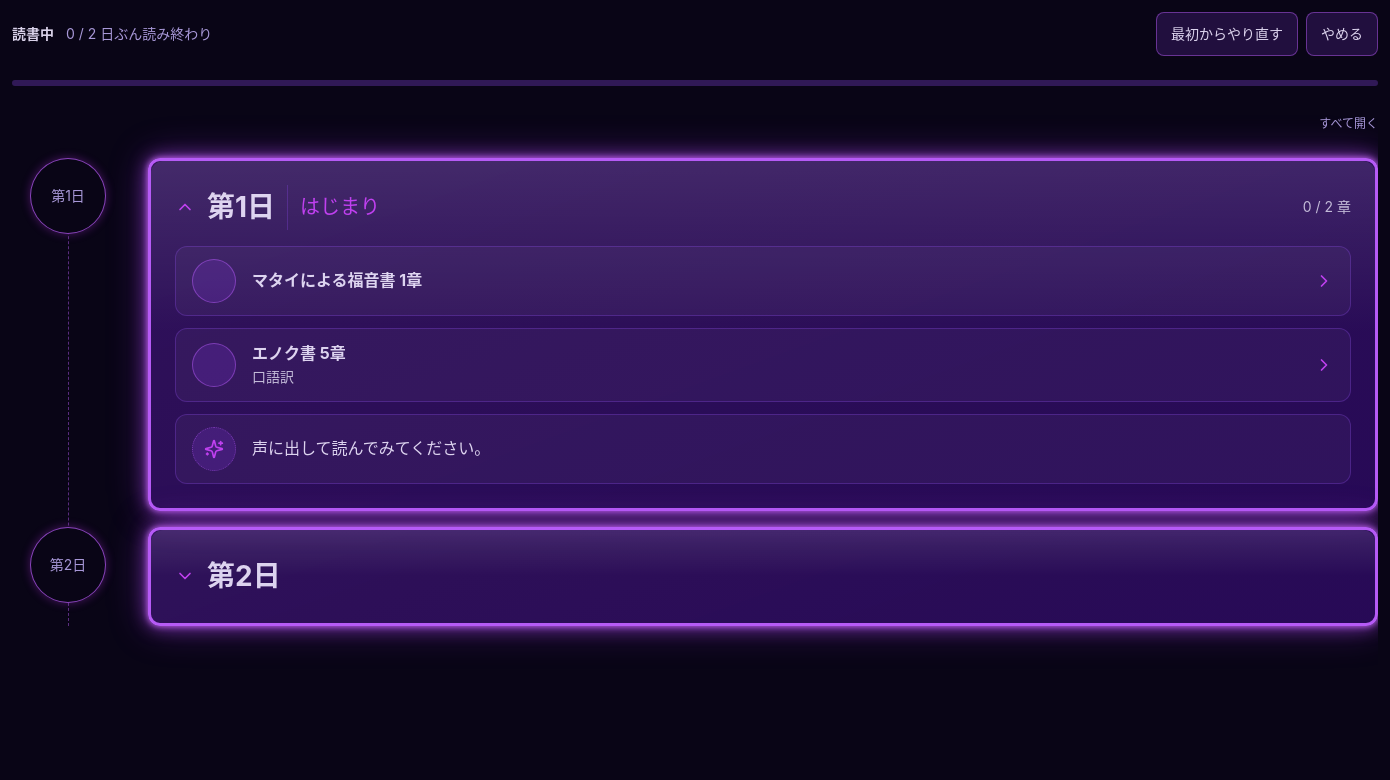
Test: プランを読み進めるところ › その日の章に全部印が付くと、日の見出しの数が満ちる
Check: the text "0 / 2 章" is shown, box [1303,196,1351,219]
Click the checkbox named "マタイによる福音書 1章を読み終えたと記録": point(214, 281) [192,259,236,303]
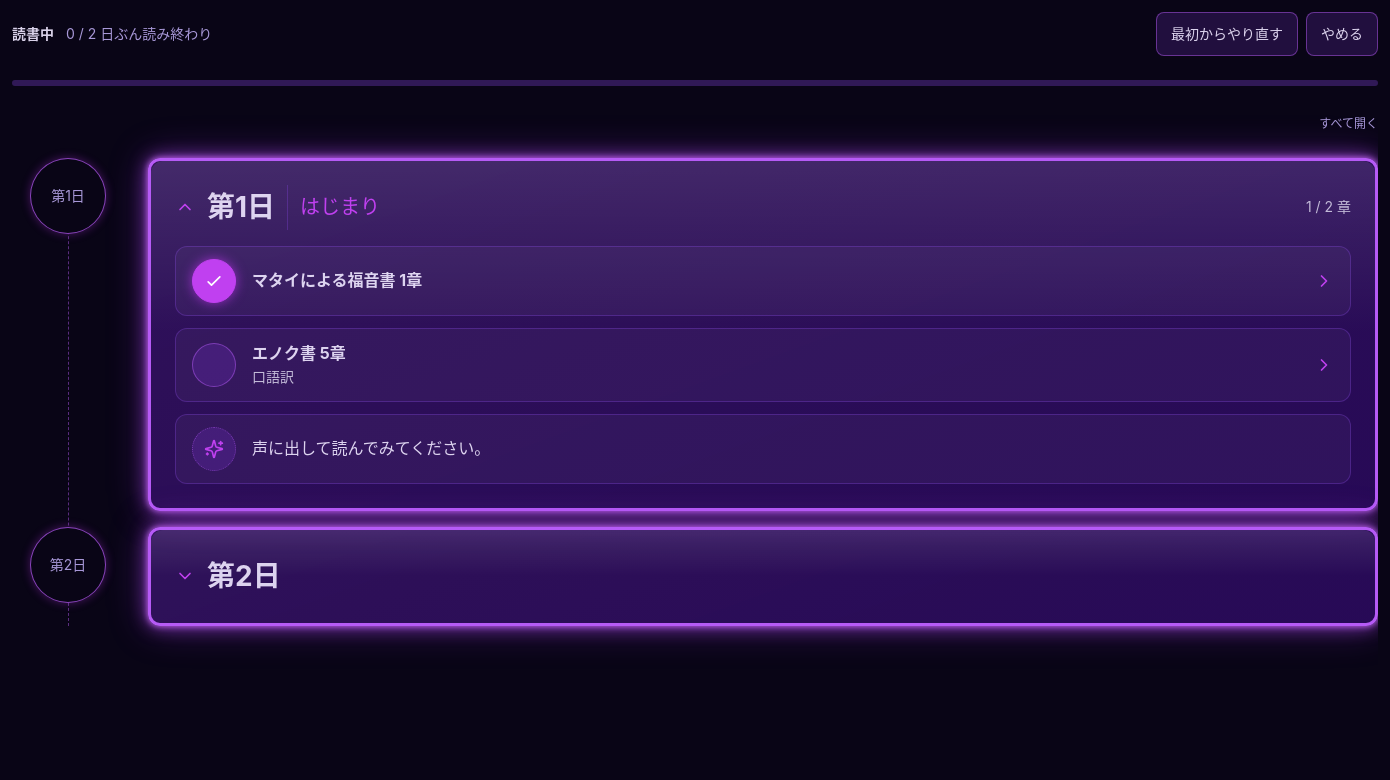
Click the checkbox named "エノク書 5章を読み終えたと記録": point(214, 365) [192,343,236,387]
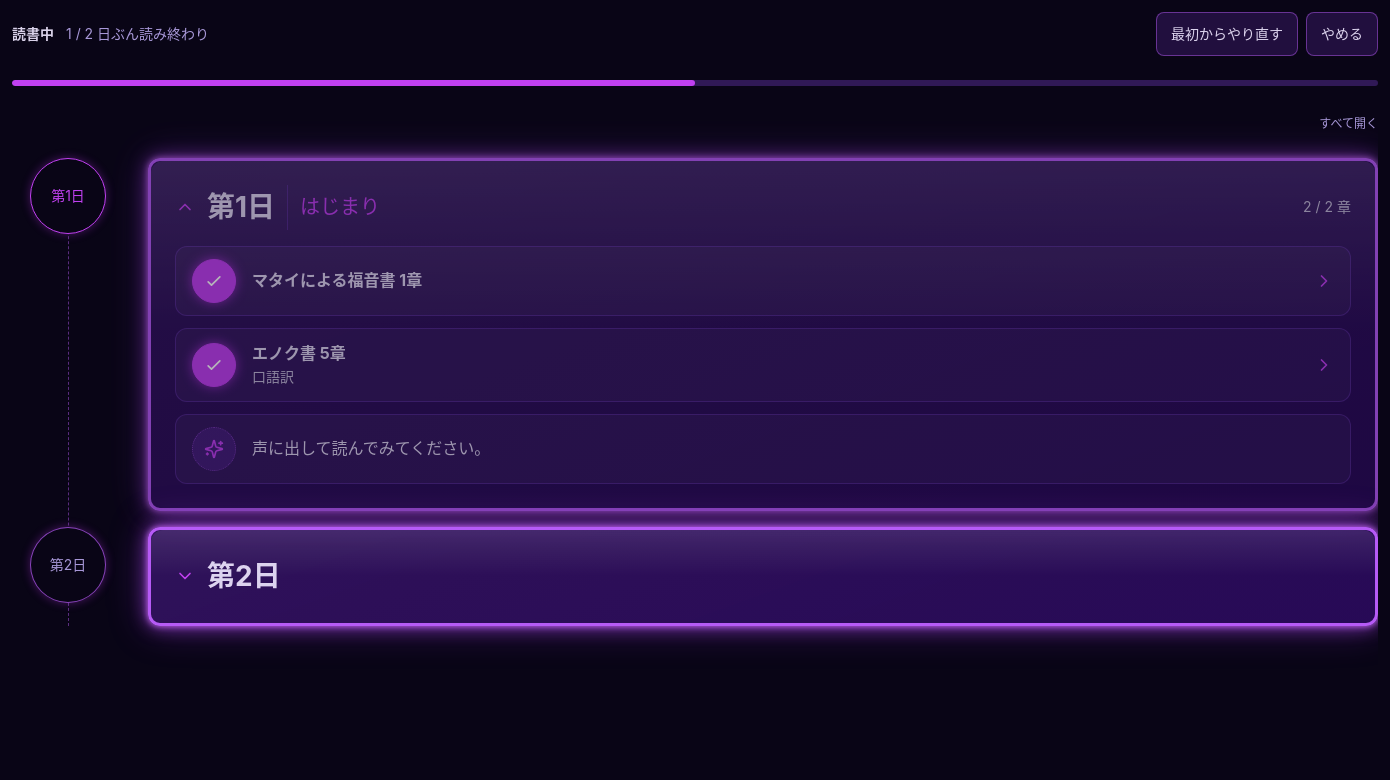
Check: the text "2 / 2 章" is shown, box [1303,196,1351,219]
